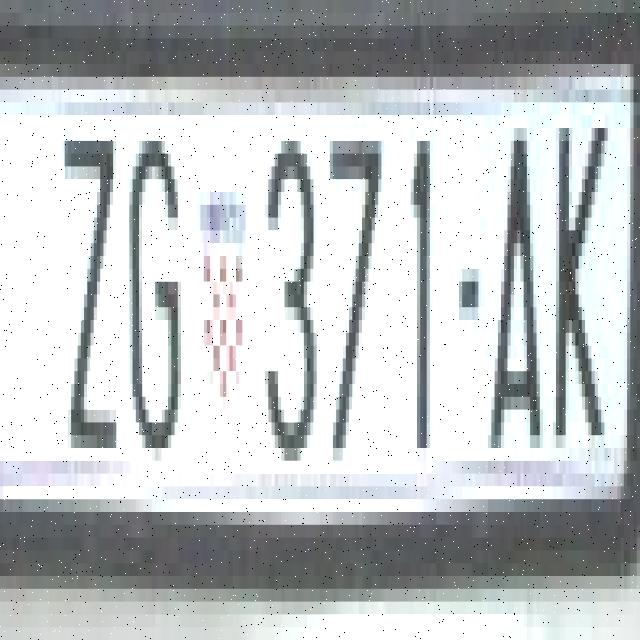1: (404, 122, 436, 454)
3: (260, 128, 315, 461)
7: (324, 128, 382, 461)
A: (486, 109, 542, 454)
G: (128, 122, 182, 454)
K: (553, 102, 611, 448)
Z: (62, 122, 120, 454)
